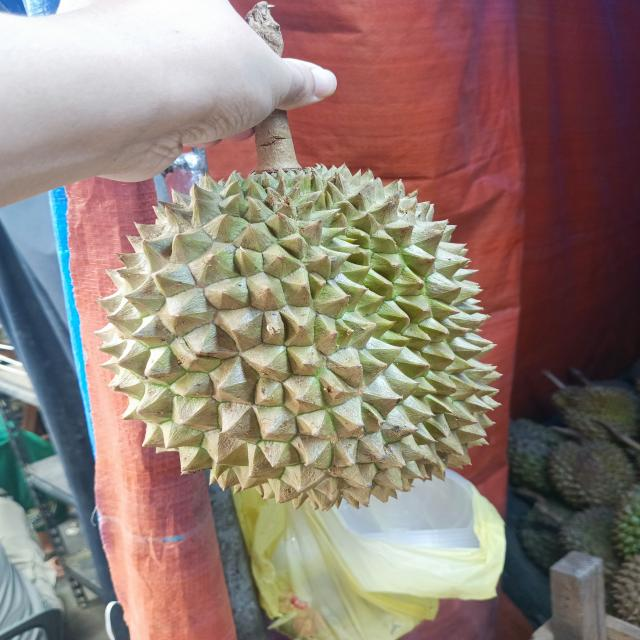mature: (96, 110, 500, 510)
